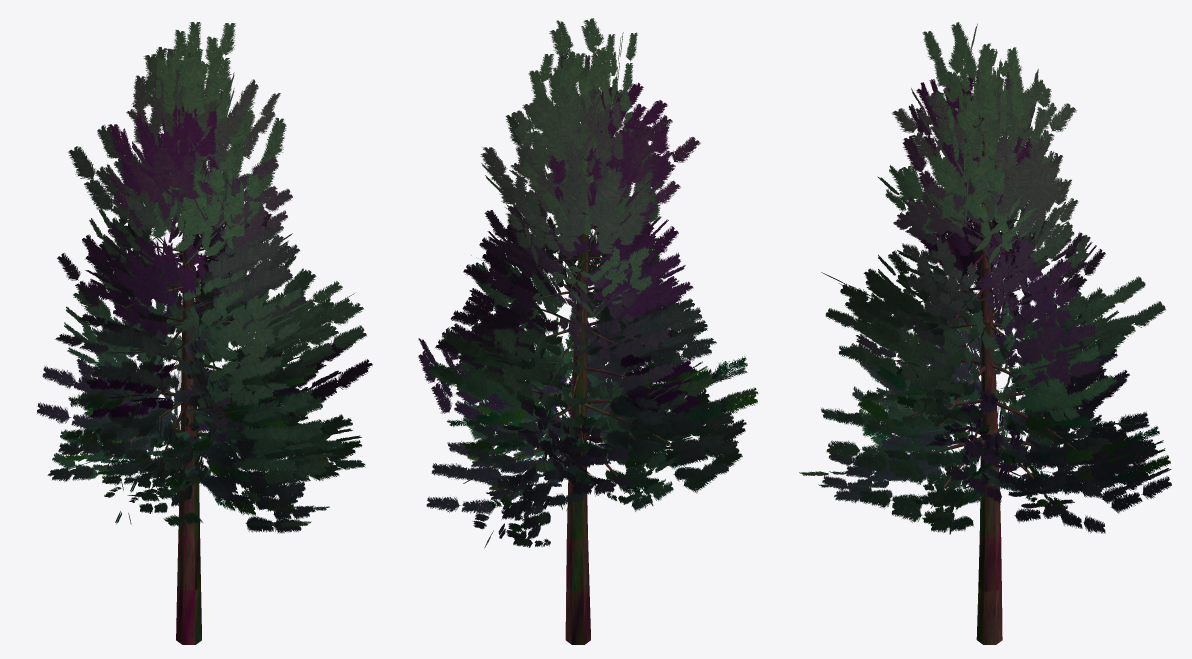
File: nat_pine_a_LOD1.glb
3 views of the same model, side by side, from view 1: azimuth 30°, elevation 25°; view 2: azimuth 150°, elevation 25°; view 3: azimuth 270°, elevation 25° (orthographic). The views are drawn at different scales.
Parts seen in each view (by area): view 1: nat_pine_a_LOD1; view 2: nat_pine_a_LOD1; view 3: nat_pine_a_LOD1.
Part boxes in pixels (x1,y1,x2,y2): nat_pine_a_LOD1: [37, 22, 372, 644]; nat_pine_a_LOD1: [418, 18, 758, 644]; nat_pine_a_LOD1: [799, 22, 1171, 644].
Size of the model in its own units: 7.35 by 12.86 by 7.25.
Materials: 2 (2 with a texture image).
